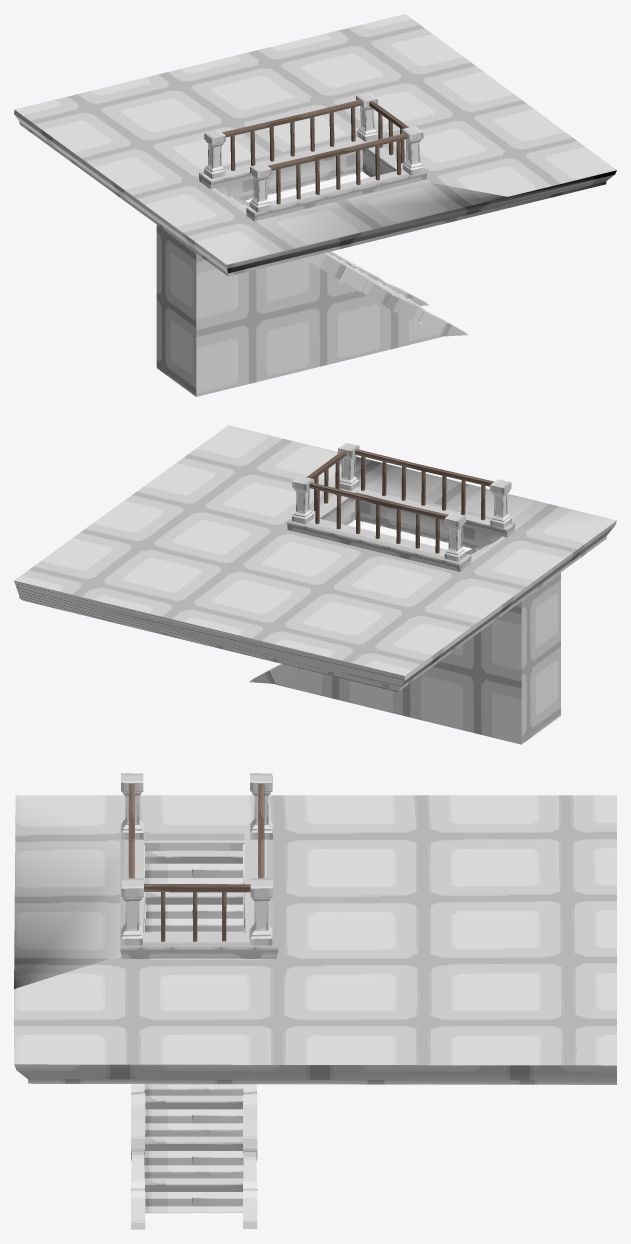
File: SM_BlacksmithS_Second_Floor_Stairs.fbx
3 renders of one model, top to bottom at view 1: azimuth 30°, elevation 25°; view 2: azimuth 150°, elevation 25°; view 3: azimuth 270°, elevation 25°, orthographic. The views are drawn at different scales.
Parts seen in each view (by area): view 1: SM_BlacksmithS_Second_Floor_Stairs_LOD0; view 2: SM_BlacksmithS_Second_Floor_Stairs_LOD0; view 3: SM_BlacksmithS_Second_Floor_Stairs_LOD0.
Part boxes in pixels (x1,y1,x2,y2): SM_BlacksmithS_Second_Floor_Stairs_LOD0: (14, 14, 616, 396); SM_BlacksmithS_Second_Floor_Stairs_LOD0: (14, 425, 616, 744); SM_BlacksmithS_Second_Floor_Stairs_LOD0: (14, 773, 616, 1229).
Bounding box in the file's own units: 1101 × 1038 × 585.
